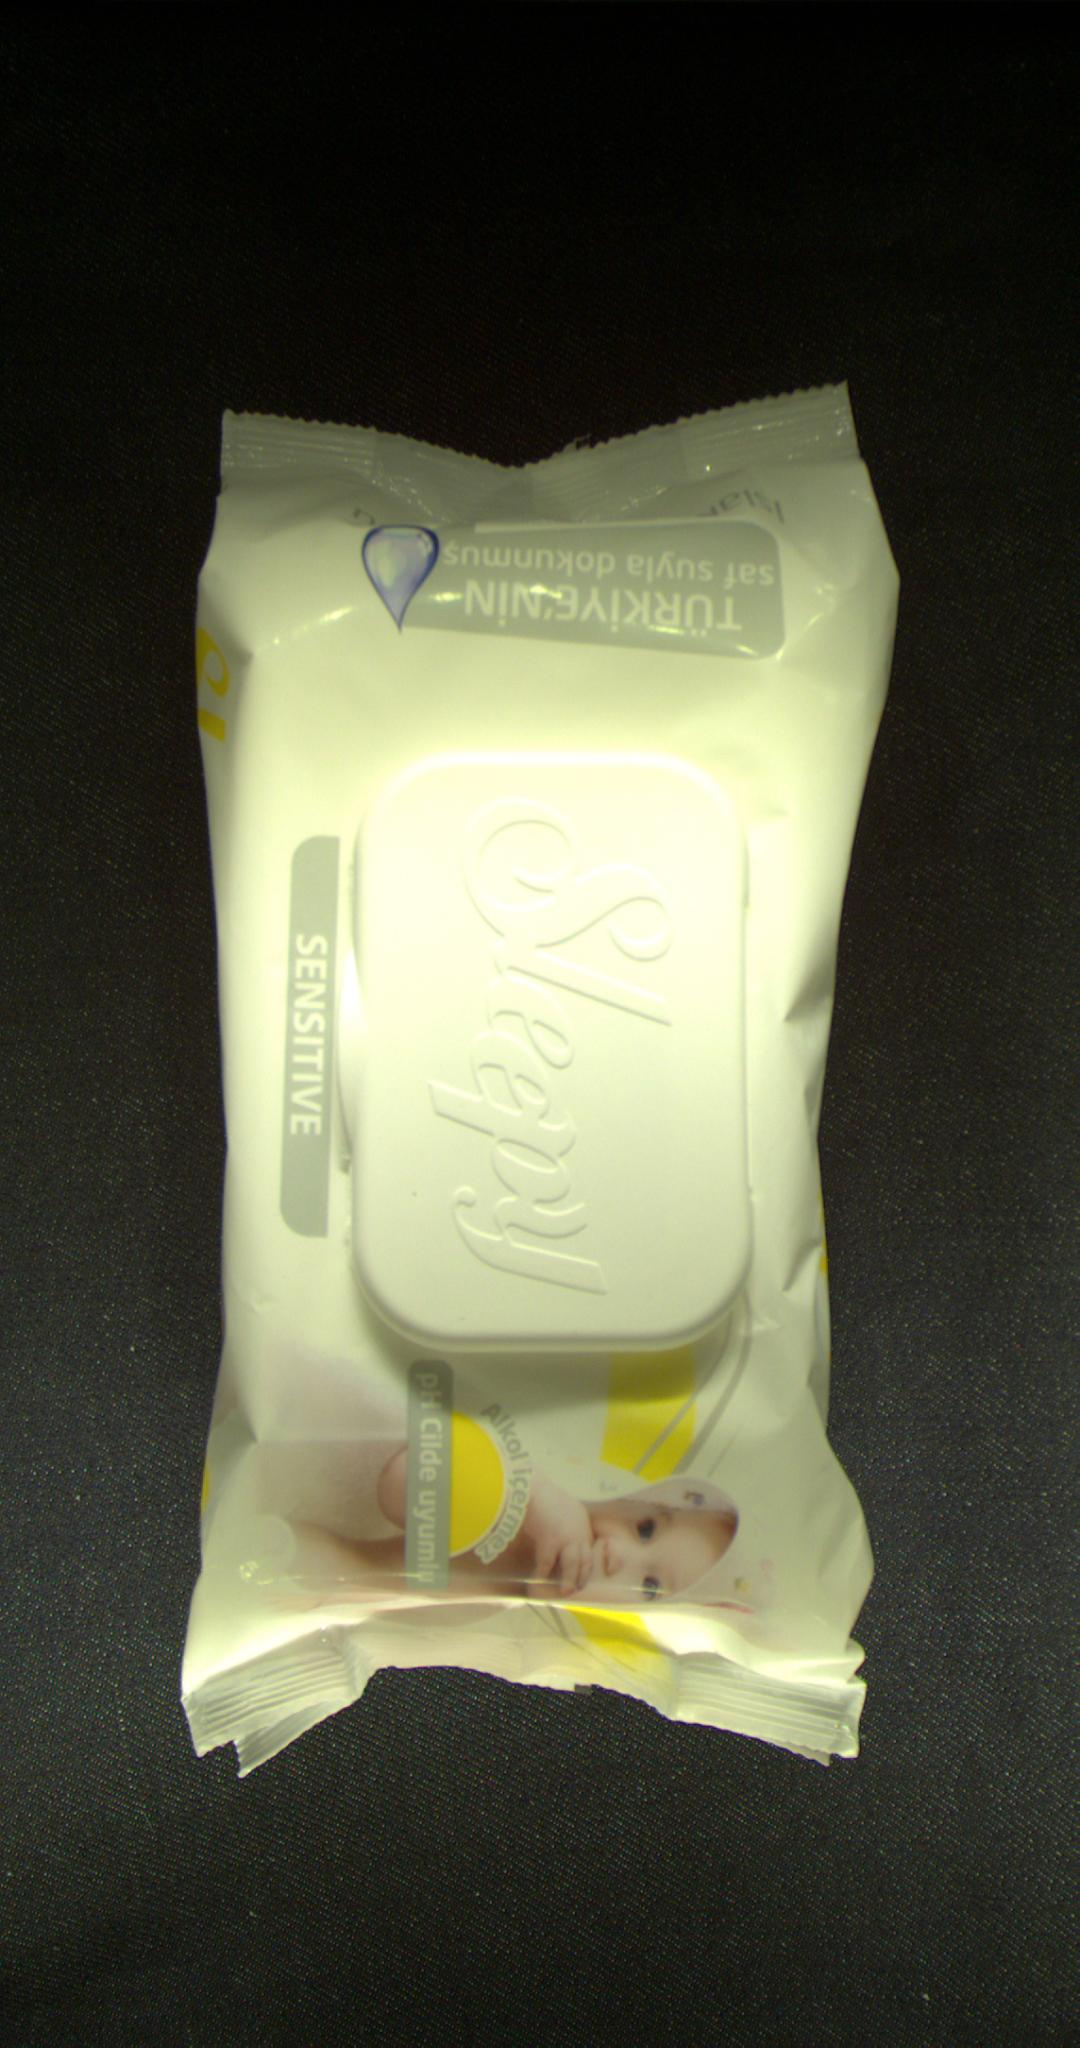kapak: (336, 760, 762, 1349)
